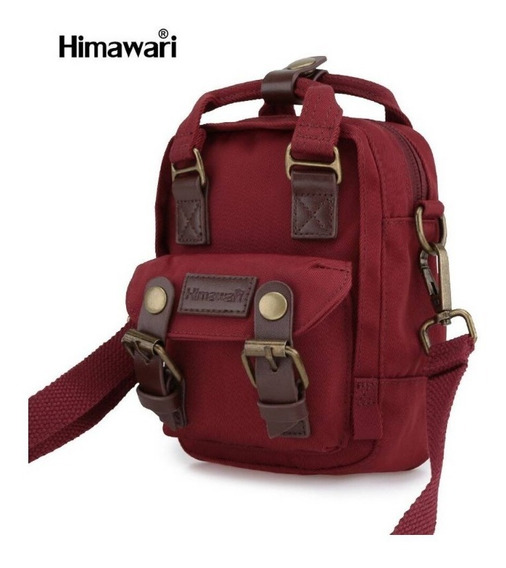cartera: (110, 53, 478, 474)
